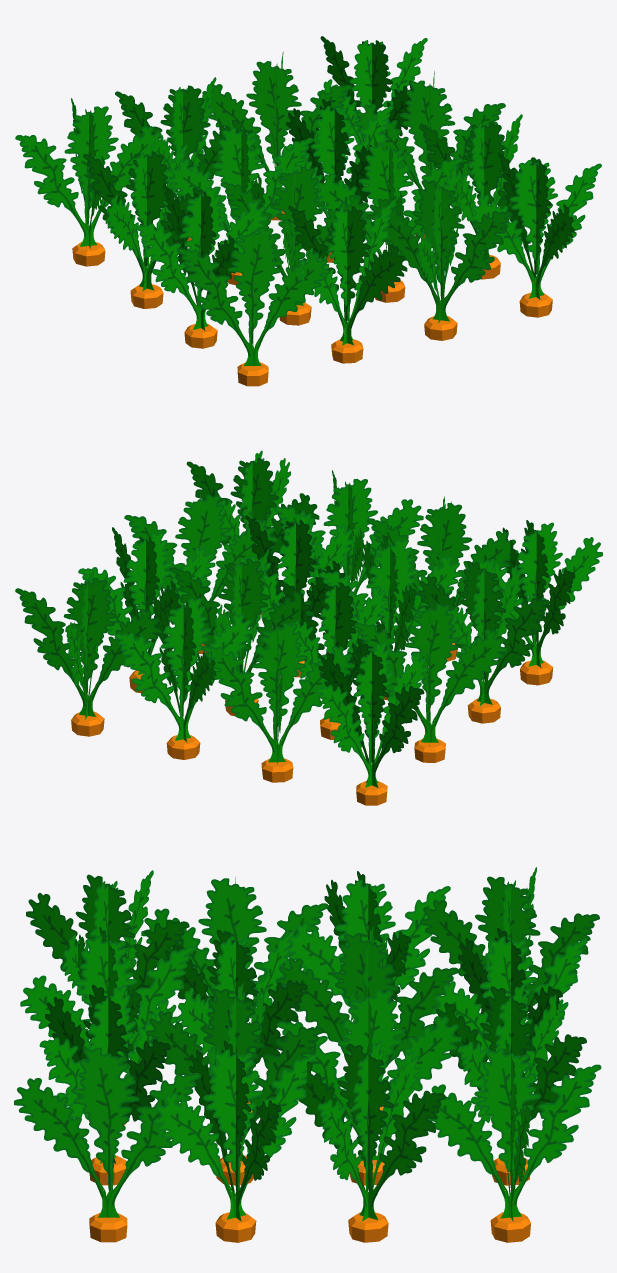
File: Carrot_F3.fbx
3 views of the same model, one above another, from view 1: azimuth 30°, elevation 25°; view 2: azimuth 150°, elevation 25°; view 3: azimuth 270°, elevation 25° (orthographic). The views are drawn at different scales.
Parts seen in each view (by area): view 1: Carrot_F3; view 2: Carrot_F3; view 3: Carrot_F3.
Boxes of the visible parts, left/top/right/bottom form: Carrot_F3: left=15, top=36, right=601, bottom=386; Carrot_F3: left=15, top=450, right=602, bottom=805; Carrot_F3: left=14, top=867, right=601, bottom=1242.
Bounding box in the file's own units: 240 × 83.95 × 239.
